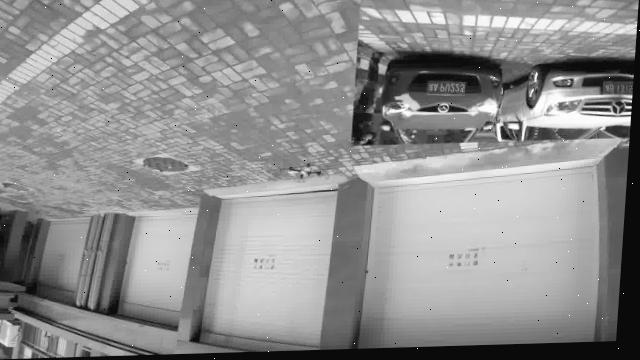drone: (282, 162, 331, 188)
